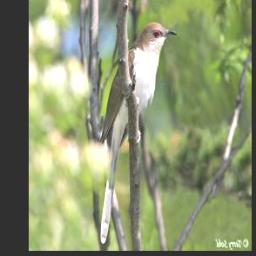Cuckoo: (99, 19, 179, 246)
